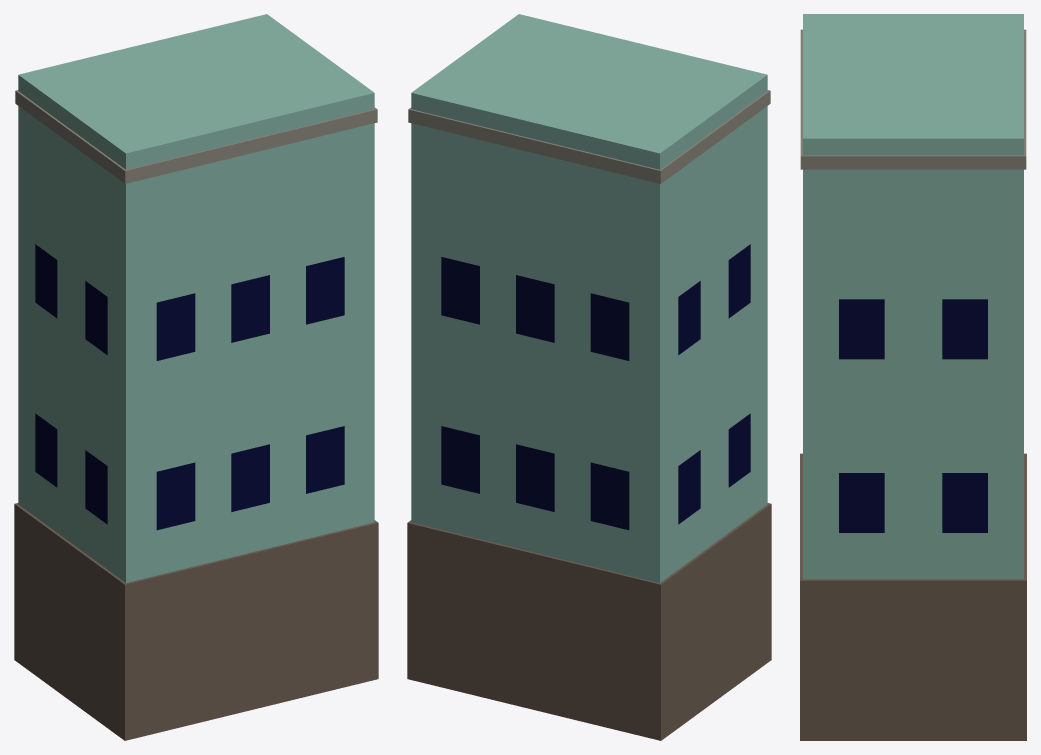
File: env_building_block_c.obj
The picture shows the model from 3 angles, left to right: view 1: azimuth 30°, elevation 25°; view 2: azimuth 150°, elevation 25°; view 3: azimuth 270°, elevation 25°; orthographic projection. The views are drawn at different scales.
Visible parts, largest first — view 1: BuildingBlock; view 2: BuildingBlock; view 3: BuildingBlock.
Boxes of the visible parts, left/top/right/bottom form: BuildingBlock: left=14, top=14, right=378, bottom=740; BuildingBlock: left=407, top=14, right=771, bottom=740; BuildingBlock: left=800, top=14, right=1026, bottom=740.
Bounding box in the file's own units: 4.08 × 9 × 3.08.
